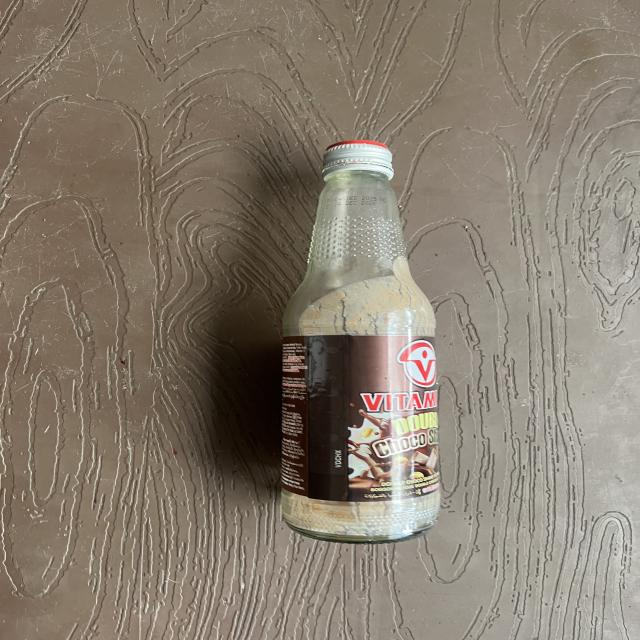REJECT: (244, 129, 486, 546)
